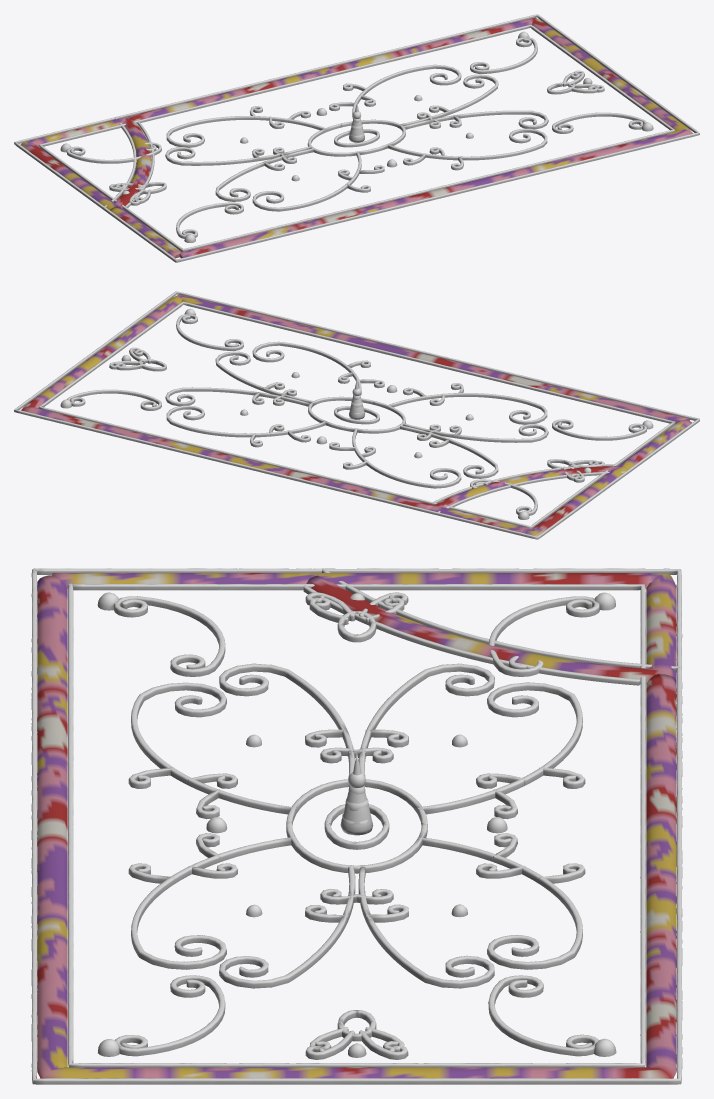
The model's file is garden_parterre.glb.
3 views of the same model, one above another, from view 1: azimuth 30°, elevation 25°; view 2: azimuth 150°, elevation 25°; view 3: azimuth 270°, elevation 25° (orthographic). The views are drawn at different scales.
Visible parts, largest first — view 1: broderie_plain, broderie_notched, beds_notched, beds_plain; view 2: broderie_plain, broderie_notched, beds_notched, beds_plain; view 3: broderie_plain, broderie_notched, beds_notched, beds_plain, topiary_0.
Part boxes in pixels (left/top/right/bottom): broderie_plain: left=14, top=14, right=696, bottom=262; broderie_notched: left=103, top=14, right=699, bottom=262; beds_notched: left=110, top=17, right=692, bottom=258; beds_plain: left=20, top=117, right=129, bottom=209; broderie_plain: left=15, top=292, right=699, bottom=539; broderie_notched: left=14, top=291, right=699, bottom=514; beds_notched: left=21, top=294, right=691, bottom=509; beds_plain: left=430, top=466, right=627, bottom=536; broderie_plain: left=31, top=568, right=682, bottom=1084; broderie_notched: left=31, top=568, right=682, bottom=1084; beds_notched: left=37, top=573, right=676, bottom=1078; beds_plain: left=310, top=573, right=676, bottom=680; topiary_0: left=340, top=753, right=372, bottom=835.
Size of the model in its own units: 51.84 by 3.62 by 27.84.
